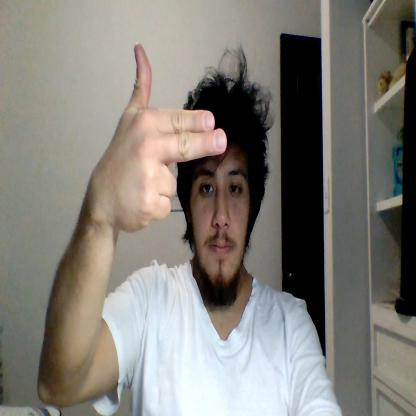H: (114, 44, 228, 232)
